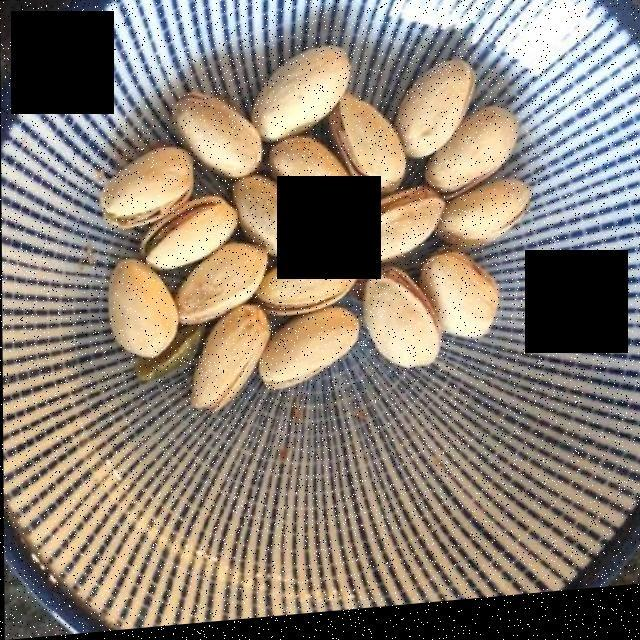pistachio: (102, 56, 529, 408)
